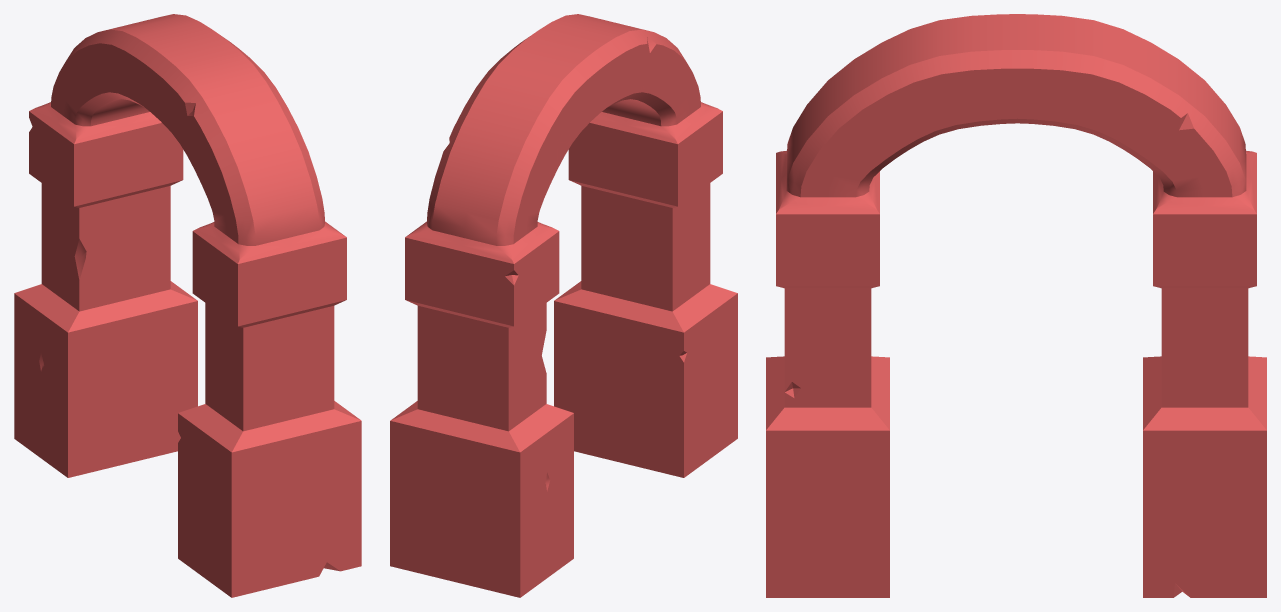
Rendered from lavaDing_14.fbx.
3 views of the same model, side by side, from view 1: azimuth 30°, elevation 25°; view 2: azimuth 150°, elevation 25°; view 3: azimuth 270°, elevation 25° (orthographic). The views are drawn at different scales.
Parts seen in each view (by area): view 1: Cube.036; view 2: Cube.036; view 3: Cube.036.
Part boxes in pixels (box(x1,y1,x2,y2)): Cube.036: box(14, 14, 361, 597); Cube.036: box(390, 14, 737, 597); Cube.036: box(766, 14, 1266, 597).
Bounding box in the file's own units: 87.38 × 295 × 253.
